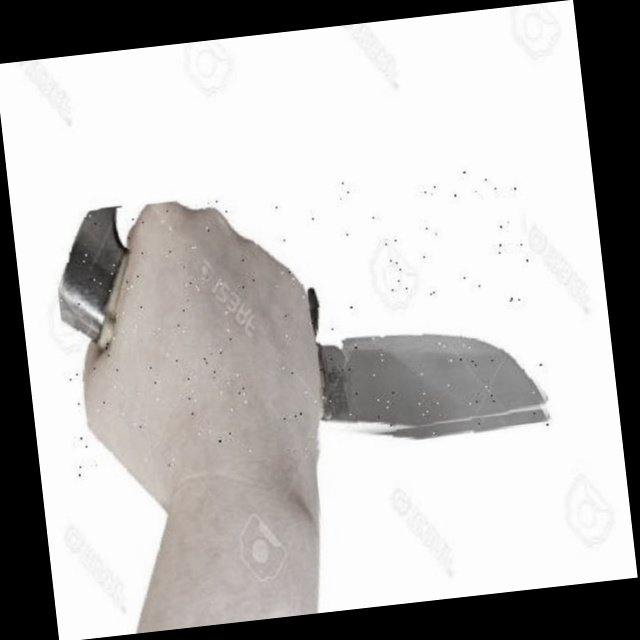Sharp-Object: (48, 162, 553, 478)
